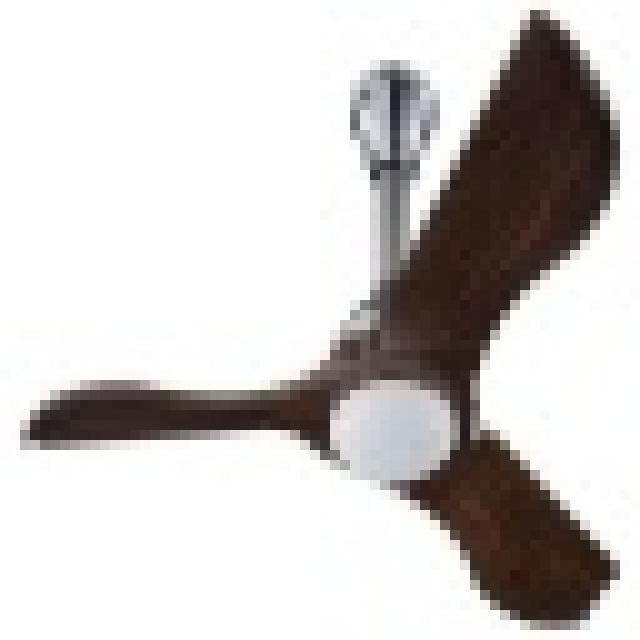Bulb: (28, 90, 640, 604)
